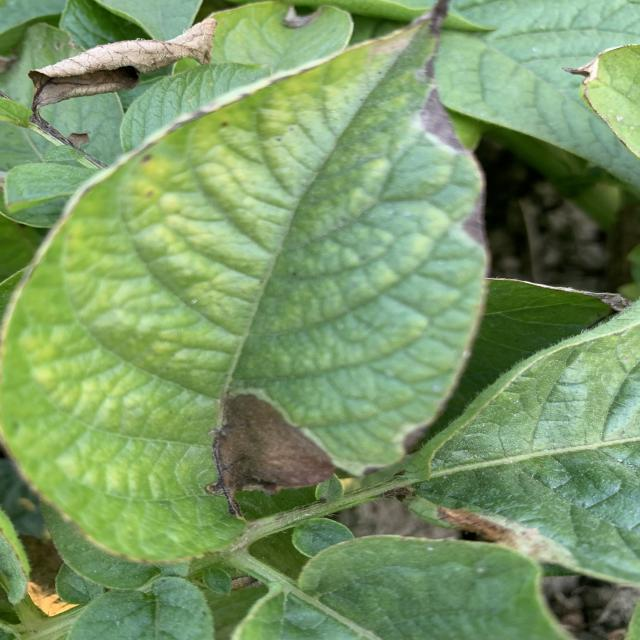lateblight: (208, 394, 335, 518), (413, 498, 577, 569), (422, 89, 465, 148), (467, 194, 487, 244)
